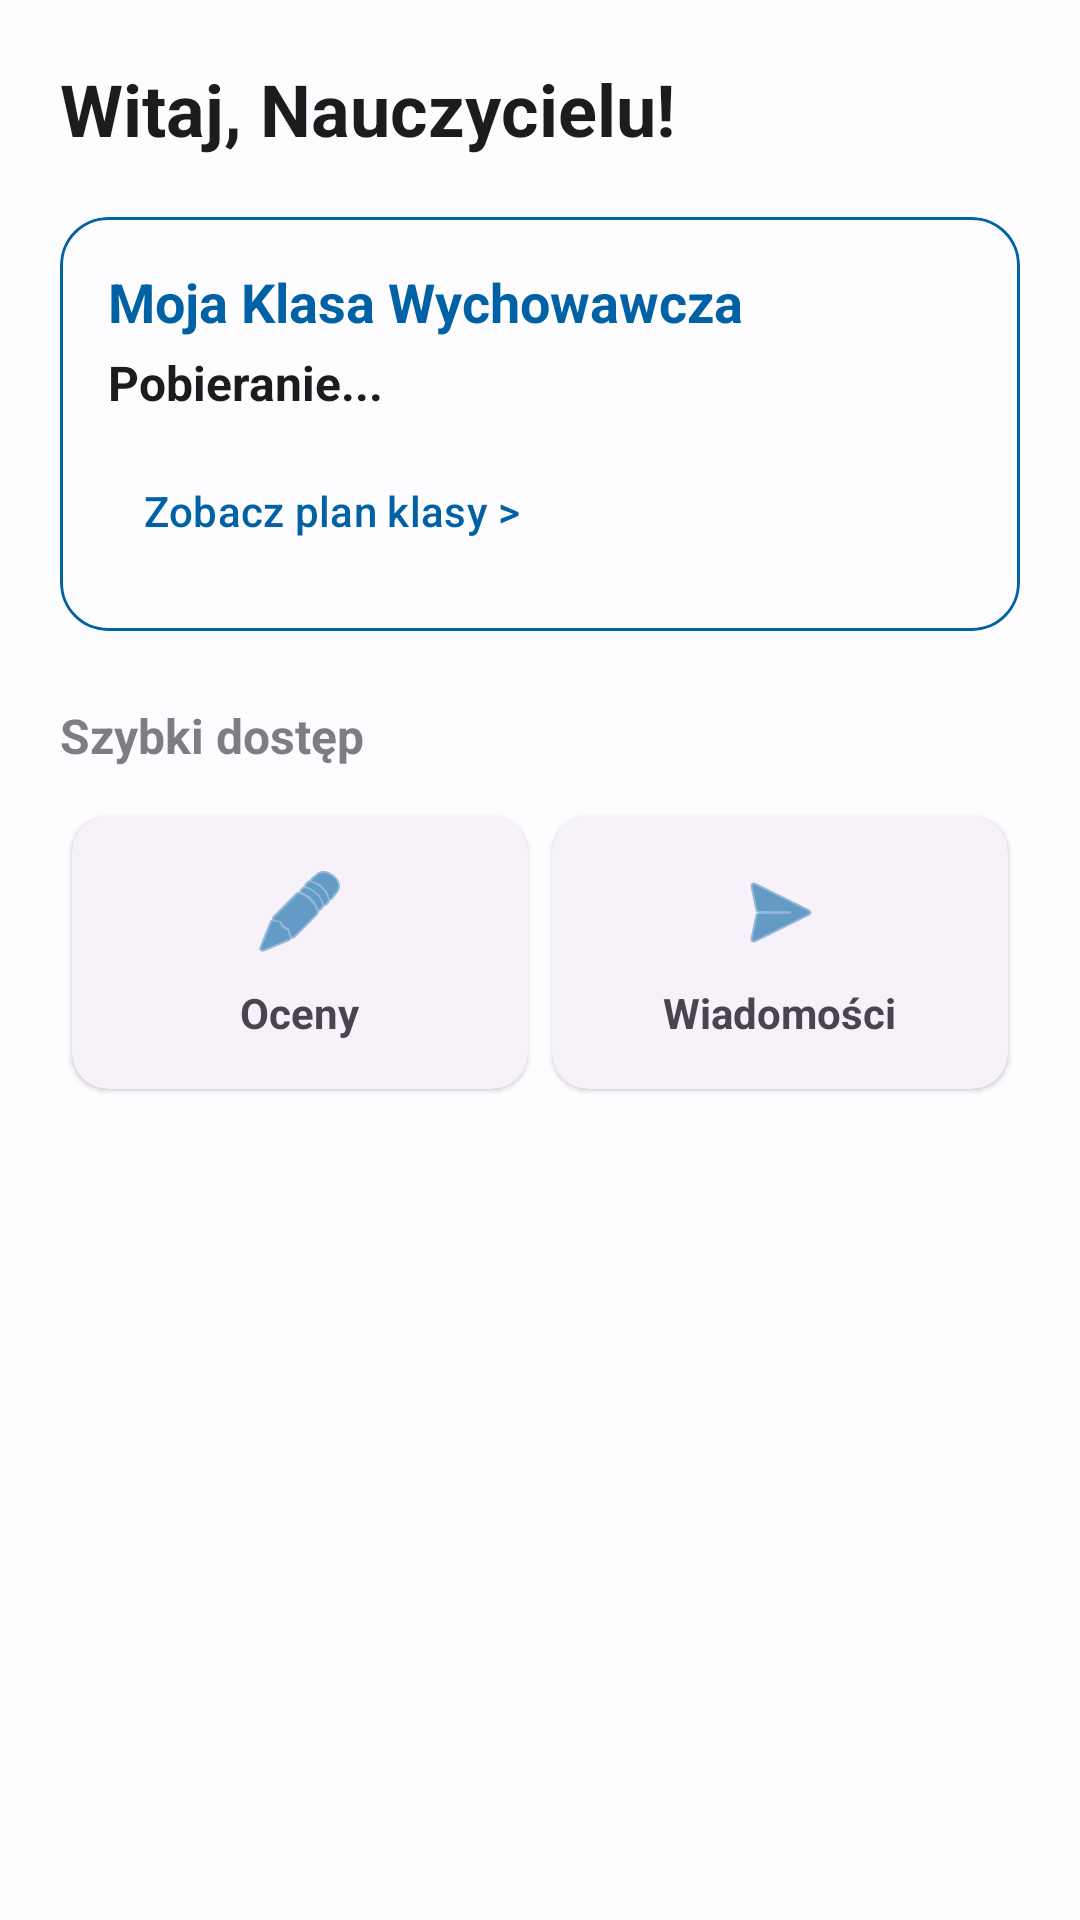

Icon click points for this 1080×1920 phone screenshot, format [x,y]:
edit: [299,911]
send: [781,912]
